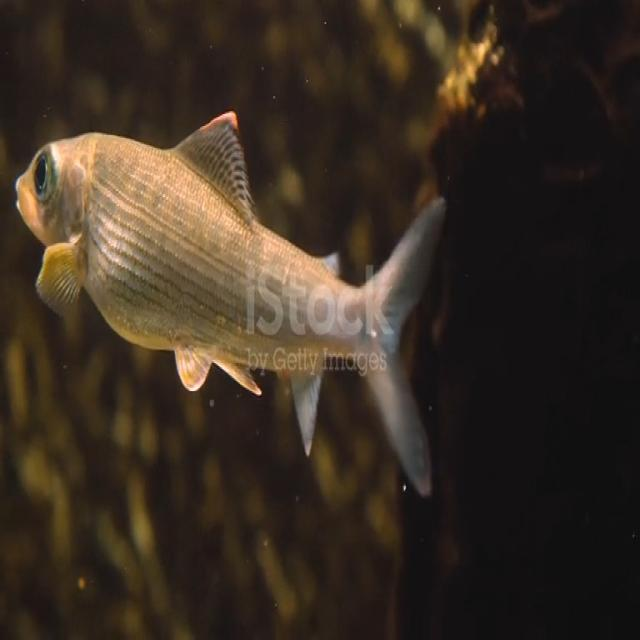fish: (13, 108, 451, 508)
